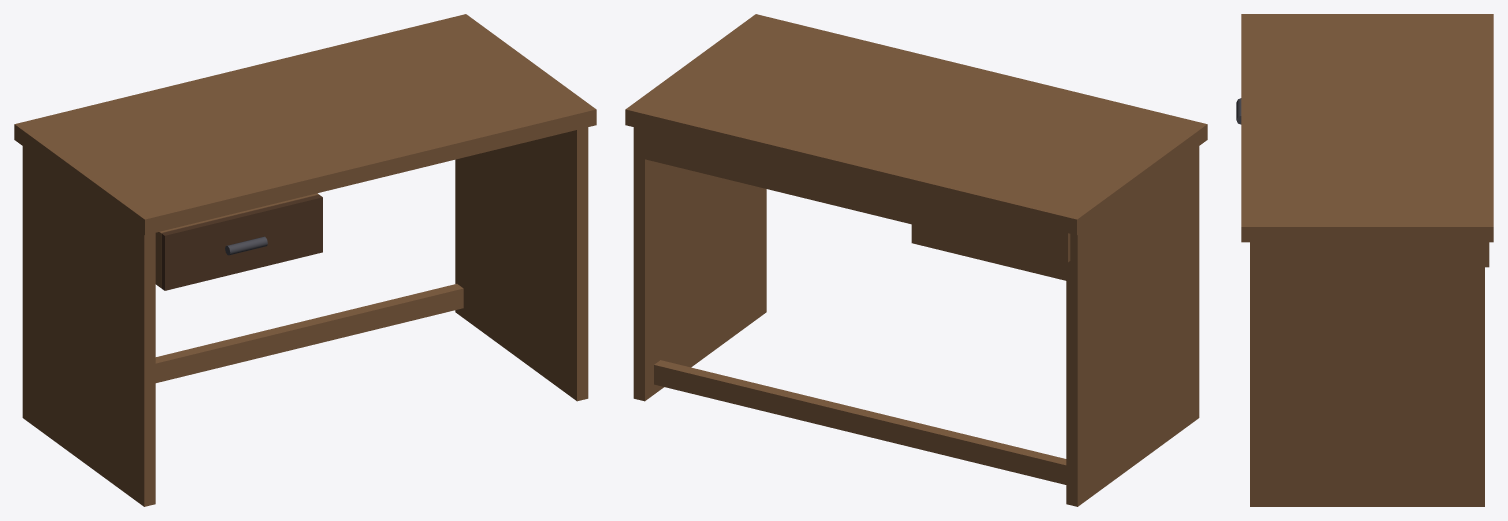
File: SM_P0_Desk_A.obj
3 renders of one model, left to right at view 1: azimuth 30°, elevation 25°; view 2: azimuth 150°, elevation 25°; view 3: azimuth 270°, elevation 25°, orthographic. The views are drawn at different scales.
Visible parts, largest first — view 1: top_slab, leg_panel_l, leg_panel_r, drawer_front, foot_rail, drawer_box; view 2: top_slab, leg_panel_l, leg_panel_r, apron_back, foot_rail, drawer_box; view 3: leg_panel_r, top_slab.
Part boxes in pixels (x1,y1,x2,y2): top_slab: (14, 14, 596, 235); leg_panel_l: (22, 146, 155, 506); leg_panel_r: (455, 127, 588, 401); drawer_front: (161, 194, 322, 290); foot_rail: (155, 284, 463, 382); drawer_box: (155, 193, 318, 287); top_slab: (625, 14, 1207, 235); leg_panel_l: (1066, 146, 1199, 506); leg_panel_r: (633, 127, 766, 401); apron_back: (639, 128, 1070, 262); foot_rail: (654, 360, 1066, 484); drawer_box: (911, 224, 1066, 280); leg_panel_r: (1250, 242, 1484, 506); top_slab: (1241, 14, 1493, 242).
Size of the model in its own units: 1.2 by 0.74 by 0.612.
